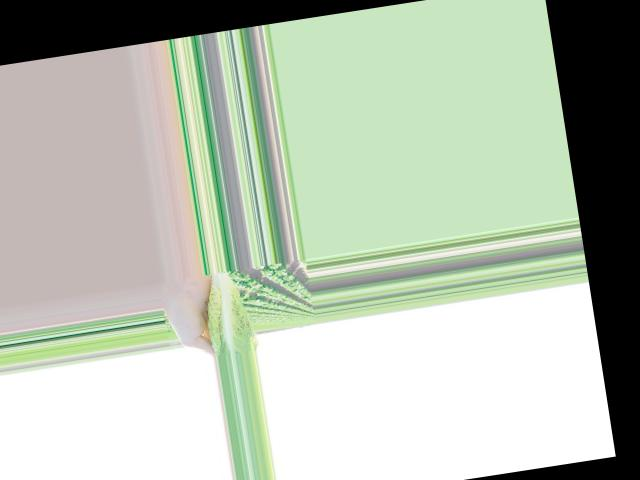lettuce: (200, 267, 256, 355)
